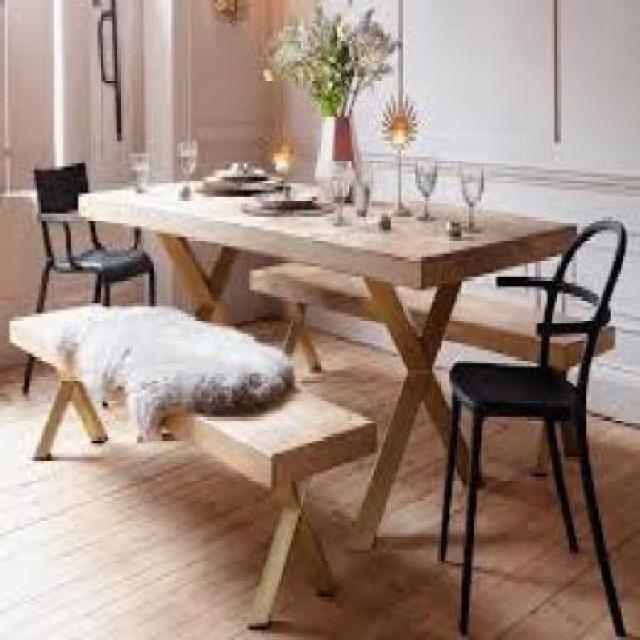tables: (76, 178, 578, 552)
